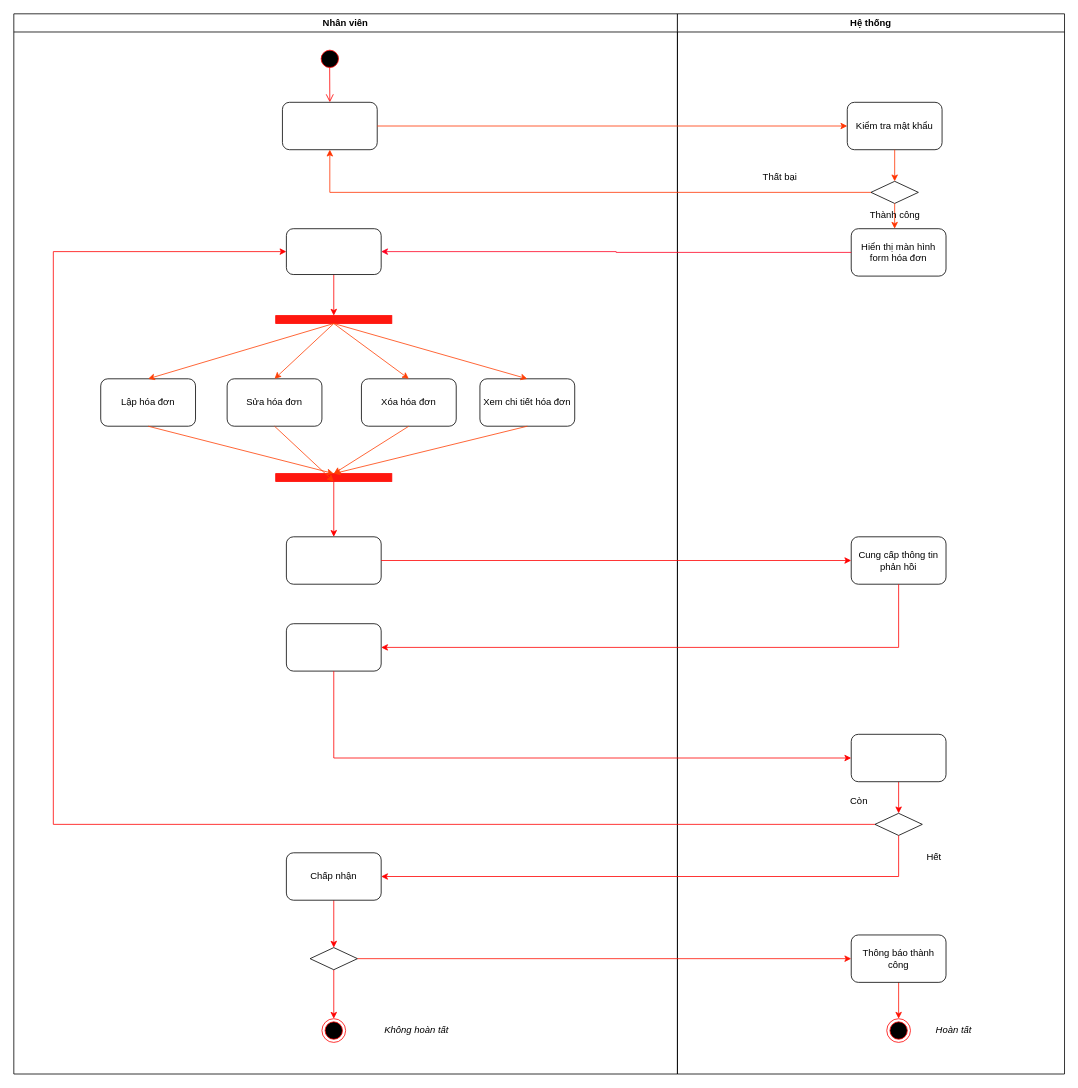
Some shapes in this 1078 by 1088 pixel diagram are drawn without their labels. The centre of each missing label's shape, as x and y in pixels:
"Hiển thị thông tin hóa đơn vừa cập nhật" goes at point 898,758.
"Lưu thông tin" goes at point 333,647.
"Lựa chọn chức năng" goes at point 333,251.
"Nhập thông tin hóa đơn" goes at point 333,560.
"Đăng nhập" goes at point 329,126.
